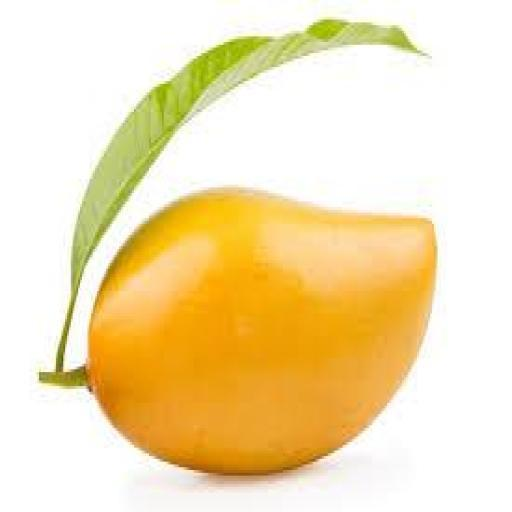mango: (88, 191, 435, 472)
